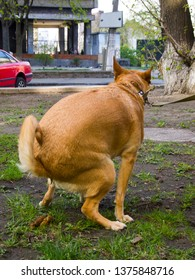dog_pooping: (17, 55, 155, 232)
